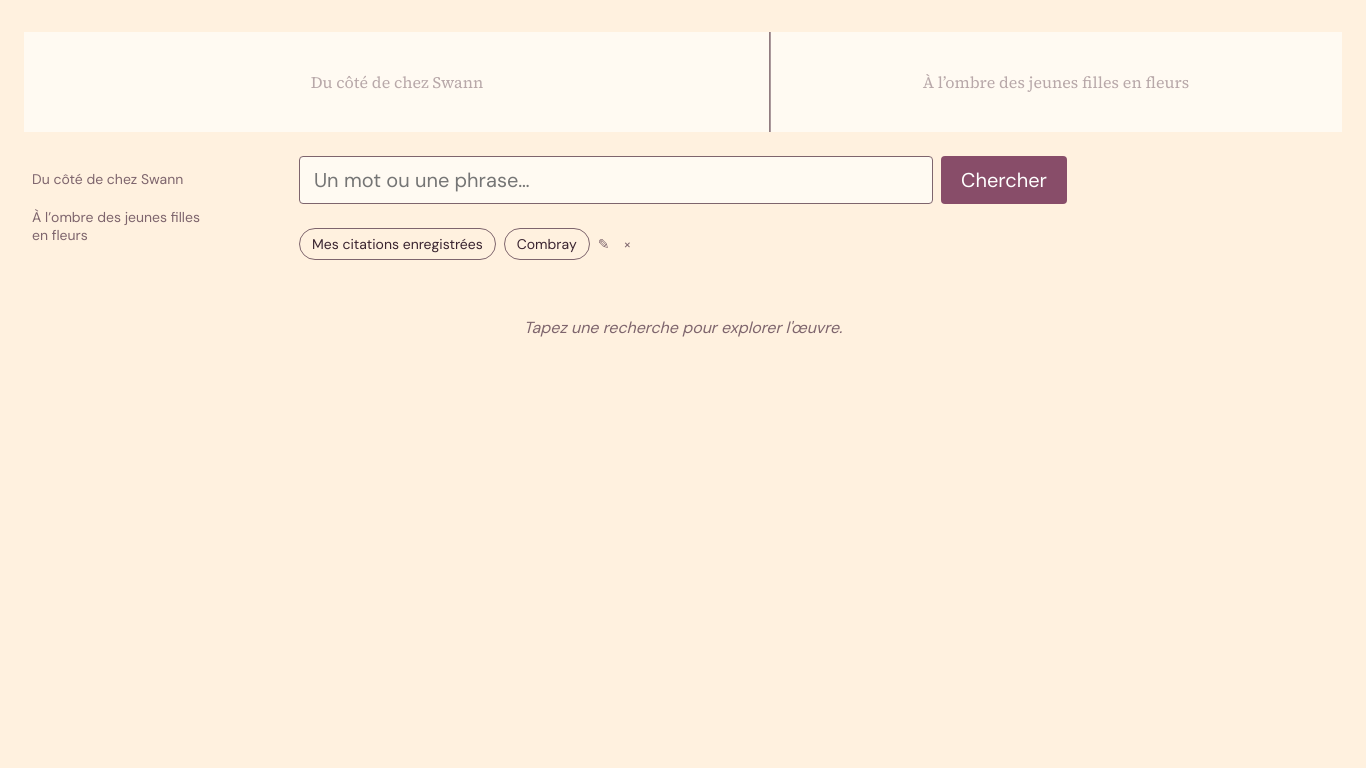
connected › switches to the saved-citations scope and lists them
Click the button "Mes citations enregistrées" at [397, 244], box [299,228,496,260]
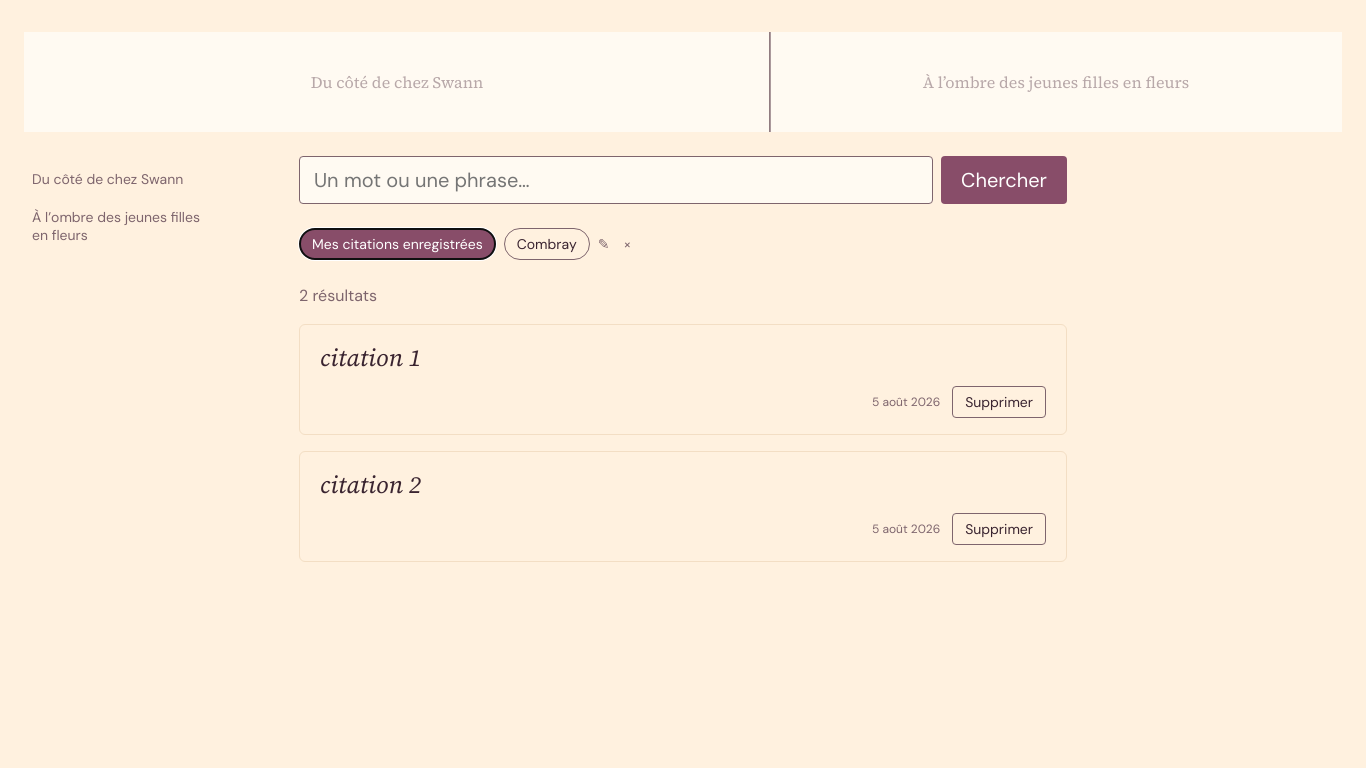
Check: the button "citation 1" is shown, box [320,341,1046,374]
Check: the button "citation 2" is shown, box [320,468,1046,501]
